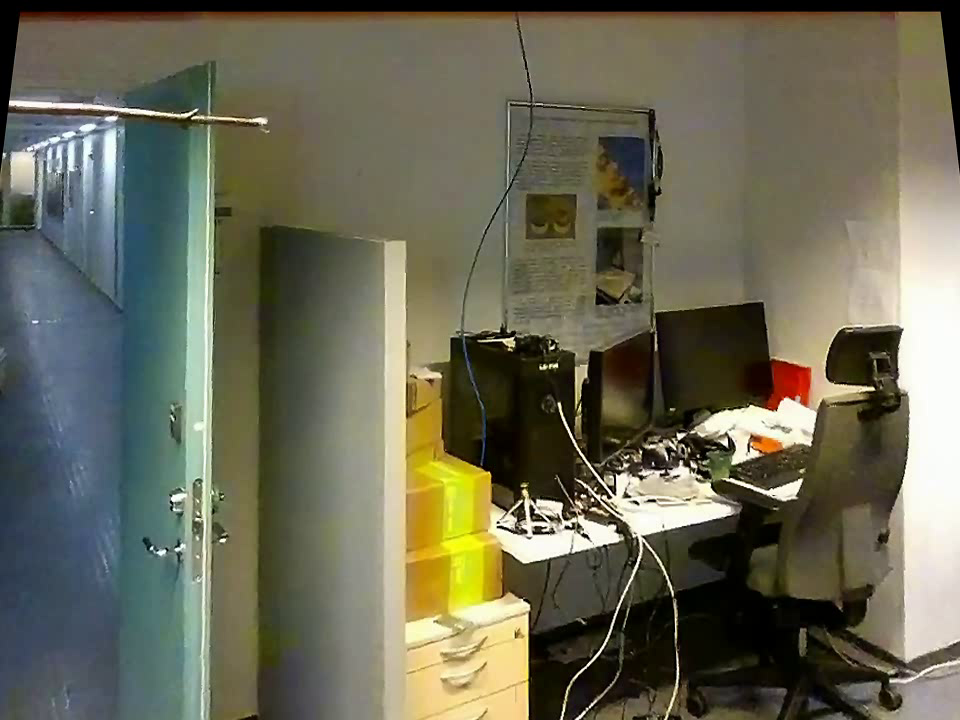branch: (10, 91, 252, 138)
